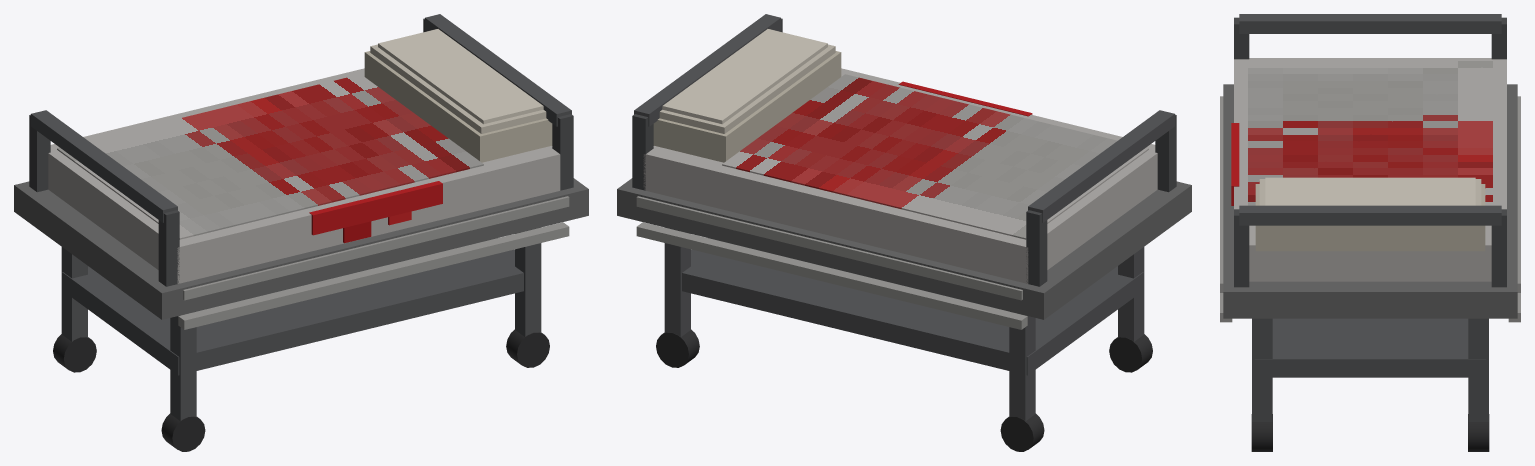
Rendered from CMU3DRMCRollerBedHospitalBlood.glb.
3 views of the same model, side by side, from view 1: azimuth 30°, elevation 25°; view 2: azimuth 150°, elevation 25°; view 3: azimuth 270°, elevation 25° (orthographic).
Visible parts, largest first — view 1: Sheet source pixels, mattress, lower carriage, trolley deck, lowered side rail (×2), pillow face, end handle (×2), caster upright (×3), pillow, end handle post (×3), caster wheel (×3), blood drips over front sheet (+1 smaller); view 2: Sheet source pixels, mattress, lower carriage, trolley deck, lowered side rail (×2), pillow face, end handle (×2), caster upright (×3), pillow, end handle post (×3), caster wheel (×3), pillow upper cushion (+1 smaller); view 3: Sheet source pixels, trolley deck, lower carriage, mattress, end handle (×2), pillow, pillow face, caster upright (×2), end handle post (×4), lowered side rail (×2), caster wheel (×2), blood drips over front sheet (+1 smaller).
Boxes of the visible parts, x1,y1,x2,y2 form: Sheet source pixels: [57, 74, 483, 239]; mattress: [48, 68, 560, 283]; lower carriage: [62, 238, 523, 375]; trolley deck: [14, 178, 588, 319]; lowered side rail (×2): [178, 196, 569, 329]; pillow face: [378, 29, 543, 124]; end handle (×2): [31, 14, 571, 222]; caster upright (×3): [61, 228, 541, 420]; pillow: [364, 51, 552, 162]; end handle post (×3): [29, 114, 573, 286]; caster wheel (×3): [53, 329, 549, 451]; blood drips over front sheet: [309, 181, 442, 235]; Sheet source pixels: [722, 74, 1148, 239]; mattress: [643, 68, 1157, 283]; lower carriage: [682, 238, 1143, 375]; trolley deck: [617, 178, 1191, 319]; lowered side rail (×2): [636, 196, 1027, 329]; pillow face: [662, 29, 827, 124]; end handle (×2): [634, 14, 1174, 222]; caster upright (×3): [664, 228, 1144, 420]; pillow: [653, 51, 841, 162]; end handle post (×3): [632, 114, 1176, 286]; caster wheel (×3): [656, 329, 1152, 451]; pillow upper cushion: [659, 44, 835, 133]; Sheet source pixels: [1248, 61, 1492, 205]; trolley deck: [1223, 84, 1517, 318]; lower carriage: [1254, 318, 1486, 377]; mattress: [1234, 58, 1506, 281]; end handle (×2): [1239, 14, 1501, 225]; pillow: [1255, 184, 1485, 251]; pillow face: [1265, 177, 1475, 205]; caster upright (×2): [1252, 318, 1488, 421]; end handle post (×4): [1234, 17, 1506, 287]; lowered side rail (×2): [1220, 96, 1520, 292]; caster wheel (×2): [1251, 414, 1489, 451]; blood drips over front sheet: [1231, 123, 1239, 205].
Size of the model in its own units: 0.954 by 0.542 by 0.584.
Materials: 13 (1 with a texture image).
